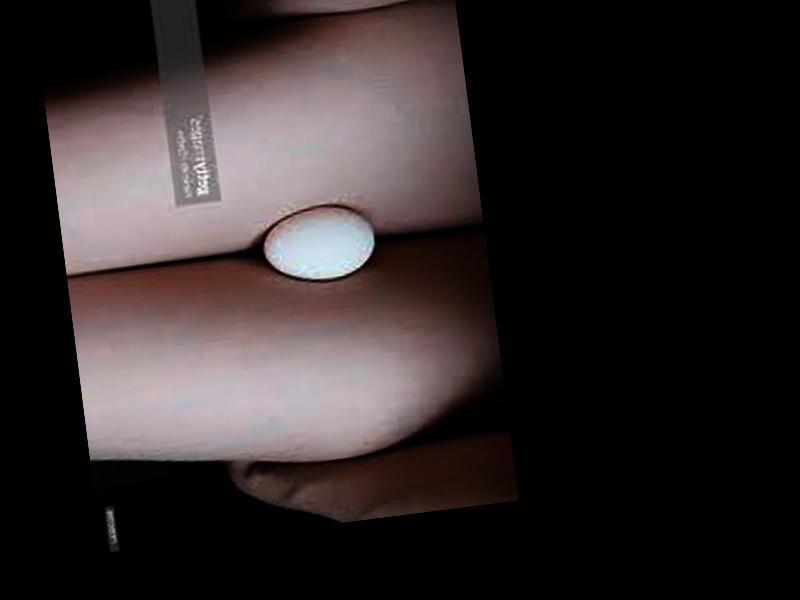Eggs: (259, 200, 378, 287)
